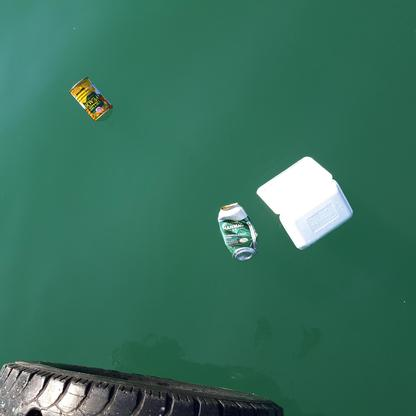can: (217, 202, 261, 261), (66, 75, 114, 120)
foam: (256, 154, 354, 249)
